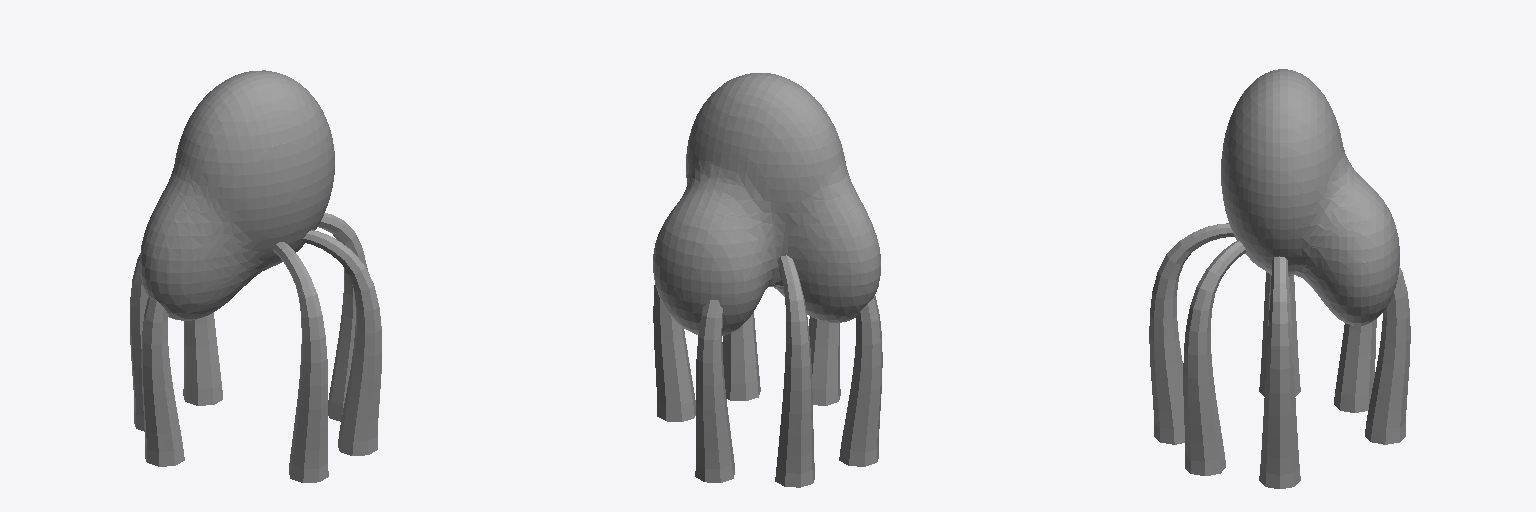
Rendered from Tree_Blob_1_CUBezierCurve.obj.
3 renders of one model, left to right at view 1: azimuth 30°, elevation 25°; view 2: azimuth 150°, elevation 25°; view 3: azimuth 270°, elevation 25°, orthographic.
Visible parts, largest first — view 1: Tree_Blob_1_CUBezierCurve.026; view 2: Tree_Blob_1_CUBezierCurve.026; view 3: Tree_Blob_1_CUBezierCurve.026.
Part boxes in pixels (x1,y1,x2,y2): Tree_Blob_1_CUBezierCurve.026: (130, 70, 381, 482); Tree_Blob_1_CUBezierCurve.026: (653, 73, 882, 487); Tree_Blob_1_CUBezierCurve.026: (1149, 69, 1410, 488).
Bounding box in the file's own units: 3.86 × 5.88 × 3.86.